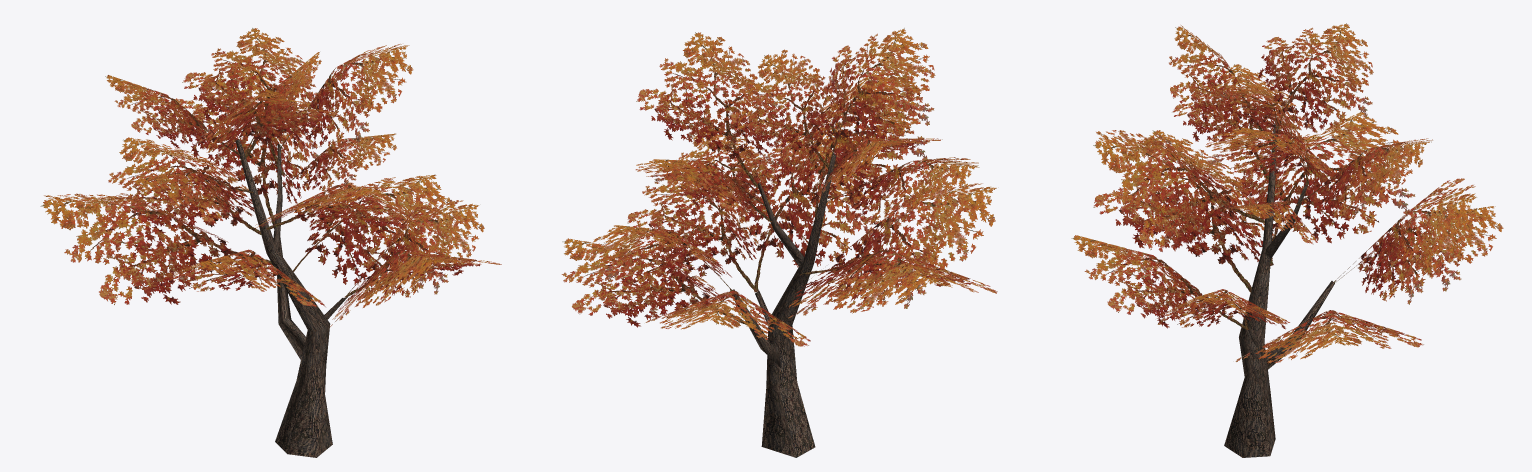
The model's file is tre_maple04_big01_brn.glb.
3 views of the same model, side by side, from view 1: azimuth 30°, elevation 25°; view 2: azimuth 150°, elevation 25°; view 3: azimuth 270°, elevation 25° (orthographic). The views are drawn at different scales.
Parts seen in each view (by area): view 1: tre_maple04_big01_leaf, tre_maple04_big01_brn; view 2: tre_maple04_big01_leaf, tre_maple04_big01_brn; view 3: tre_maple04_big01_leaf, tre_maple04_big01_brn.
Part boxes in pixels (x1=…): tre_maple04_big01_leaf: x1=40, y1=28, x2=501, y2=326; tre_maple04_big01_brn: x1=235, y1=139, x2=347, y2=457; tre_maple04_big01_leaf: x1=561, y1=28, x2=997, y2=346; tre_maple04_big01_brn: x1=729, y1=153, x2=836, y2=457; tre_maple04_big01_leaf: x1=1071, y1=23, x2=1503, y2=363; tre_maple04_big01_brn: x1=1224, y1=124, x2=1334, y2=457.
Size of the model in its own units: 33.84 by 31.6 by 33.85.
Materials: 2 (2 with a texture image).
